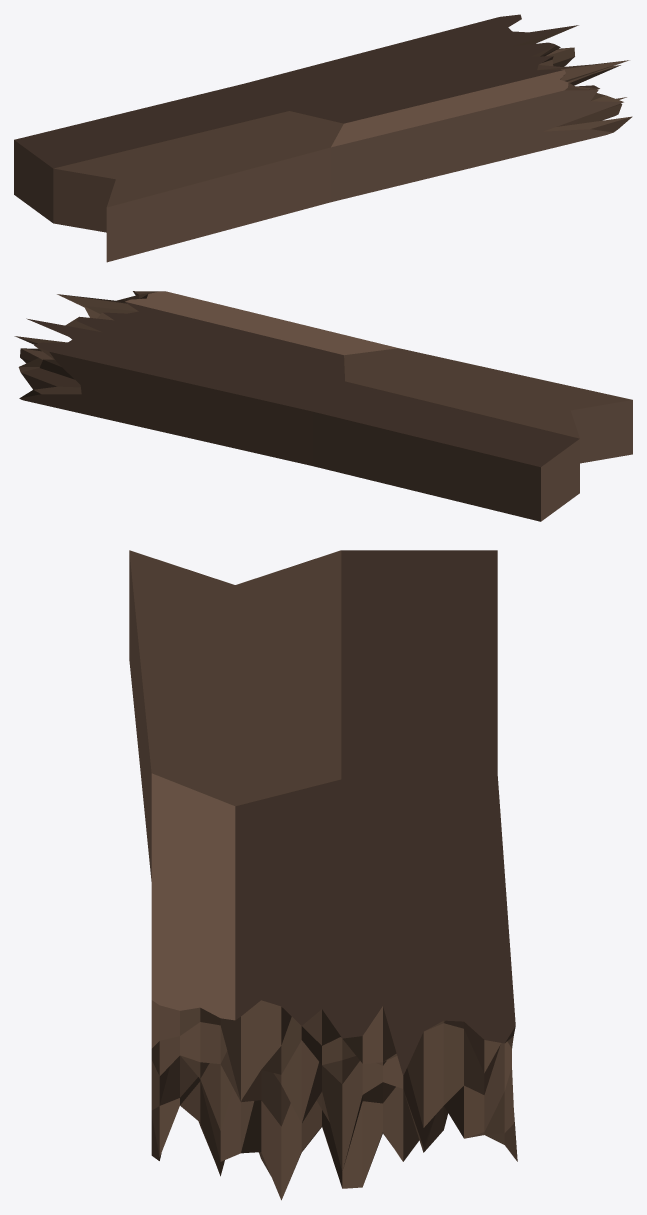
Rendered from BrokenWood.fbx.
3 renders of one model, top to bottom at view 1: azimuth 30°, elevation 25°; view 2: azimuth 150°, elevation 25°; view 3: azimuth 270°, elevation 25°, orthographic. The views are drawn at different scales.
Visible parts, largest first — view 1: Cube; view 2: Cube; view 3: Cube.
Boxes of the visible parts, bbox=[...] form: Cube: bbox=[14, 14, 632, 262]; Cube: bbox=[14, 291, 632, 521]; Cube: bbox=[129, 550, 517, 1200].
Size of the model in its own units: 402 by 37.1 by 120.
